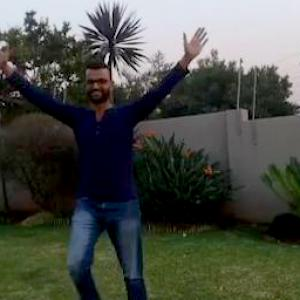takeoff: (2, 33, 210, 299)
